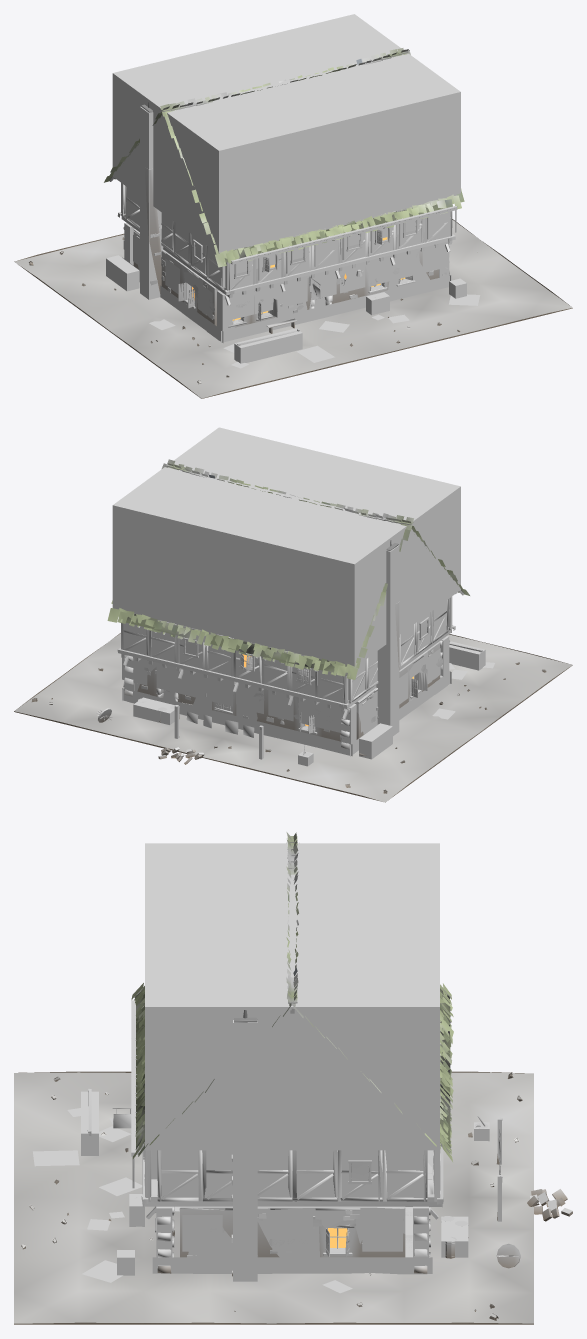
File: bld_inn_salted_kettle_shared_lite.glb
3 views of the same model, one above another, from view 1: azimuth 30°, elevation 25°; view 2: azimuth 150°, elevation 25°; view 3: azimuth 270°, elevation 25° (orthographic). The views are drawn at different scales.
Parts seen in each view (by area): view 1: col_roof, ground_mud, decals_inn, roof_slate_shingles, lite_merge_10, col_chimney, lite_merge_01, col_trough, lite_merge_07, lite_merge_22, lite_merge_00, col_woodpile (+1 smaller); view 2: col_roof, ground_mud, decals_inn, roof_slate_shingles, col_chimney, lite_merge_10, lite_merge_09, lite_merge_01, lite_merge_19, yard_props, lite_merge_12, col_woodpile (+8 smaller); view 3: col_roof, ground_mud, decals_inn, col_chimney.001, roof_slate_shingles, lite_merge_19, lite_merge_07, lite_merge_10, yard_props, lite_merge_00, col_wall.043, col_wall.038 (+11 smaller).
Part boxes in pixels (<box>): col_roof: <box>112,14,460,253</box>; ground_mud: <box>14,219,572,398</box>; decals_inn: <box>122,207,480,368</box>; roof_slate_shingles: <box>104,48,461,267</box>; lite_merge_10: <box>117,212,455,321</box>; col_chimney: <box>140,106,163,299</box>; lite_merge_01: <box>126,104,183,297</box>; col_trough: <box>234,328,302,363</box>; lite_merge_07: <box>109,177,452,286</box>; lite_merge_22: <box>182,264,335,327</box>; lite_merge_00: <box>29,237,477,383</box>; col_woodpile: <box>106,255,139,291</box>; col_roof: <box>112,427,460,666</box>; ground_mud: <box>14,633,572,802</box>; decals_inn: <box>122,648,494,756</box>; roof_slate_shingles: <box>107,459,469,679</box>; col_chimney: <box>376,545,399,735</box>; lite_merge_10: <box>117,598,455,719</box>; lite_merge_09: <box>233,638,378,726</box>; lite_merge_01: <box>243,543,407,741</box>; lite_merge_19: <box>121,620,233,676</box>; yard_props: <box>97,643,482,764</box>; lite_merge_12: <box>126,557,464,675</box>; col_woodpile: <box>359,723,392,759</box>; col_roof: <box>145,843,439,1150</box>; ground_mud: <box>14,1071,533,1324</box>; decals_inn: <box>33,1108,432,1293</box>; col_chimney.001: <box>233,1020,257,1281</box>; roof_slate_shingles: <box>131,832,453,1161</box>; lite_merge_19: <box>292,1069,440,1248</box>; lite_merge_07: <box>134,985,451,1201</box>; lite_merge_10: <box>141,1146,443,1219</box>; yard_props: <box>87,1089,572,1268</box>; lite_merge_00: <box>21,1017,522,1320</box>; col_wall.043: <box>382,1150,427,1201</box>; col_wall.038: <box>157,1150,202,1201</box>.
Size of the model in its own units: 26.4 by 14 by 24.83.
